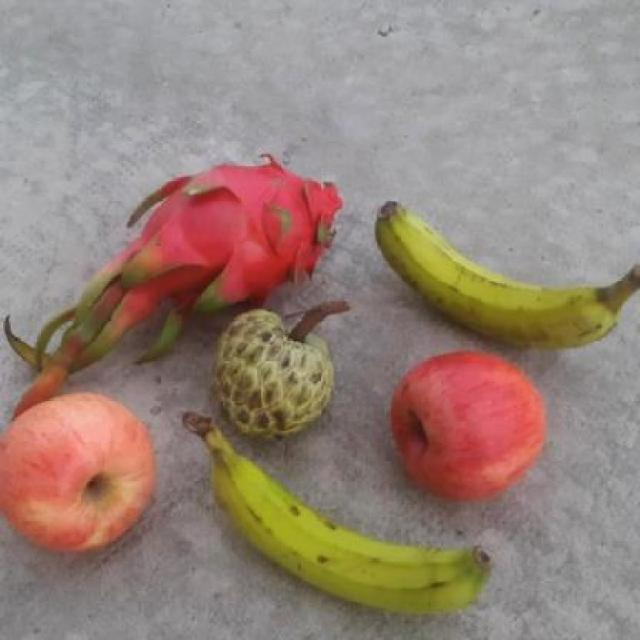apple: (388, 352, 552, 506)
banana: (187, 430, 505, 621), (375, 199, 639, 352), (0, 391, 171, 560)
dragon fruit: (123, 152, 366, 329)
sugar apple: (208, 304, 347, 447)
